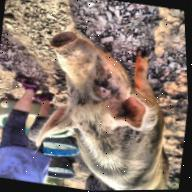boar: (15, 25, 190, 192)
